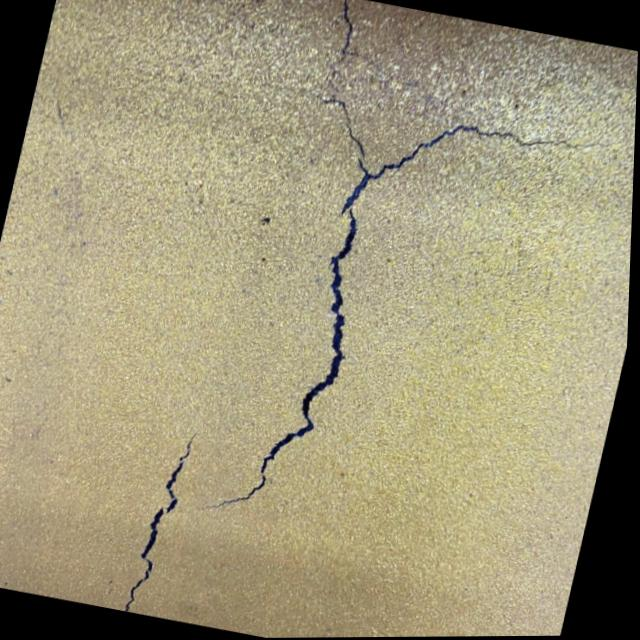Crack: (110, 0, 629, 639)
